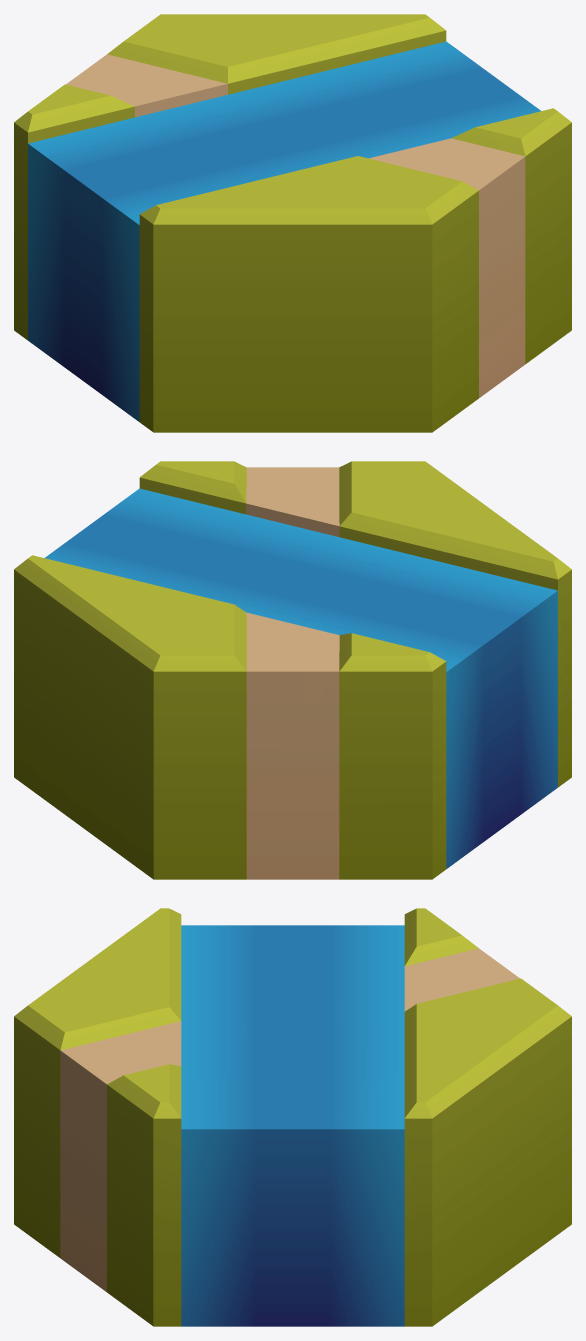
Rendered from kaykit-medieval-hexagon-pack-hex-river-crossing-a.glb.
The picture shows the model from 3 angles, top to bottom: view 1: azimuth 30°, elevation 25°; view 2: azimuth 150°, elevation 25°; view 3: azimuth 270°, elevation 25°; orthographic projection.
Parts seen in each view (by area): view 1: hex_river_crossing_A; view 2: hex_river_crossing_A; view 3: hex_river_crossing_A.
Boxes of the visible parts, x1=… form: hex_river_crossing_A: x1=14, y1=14, x2=571, y2=432; hex_river_crossing_A: x1=14, y1=461, x2=571, y2=879; hex_river_crossing_A: x1=14, y1=908, x2=571, y2=1326.
Bounding box in the file's own units: 2 × 1 × 2.31.
1 material, 1 textured.
